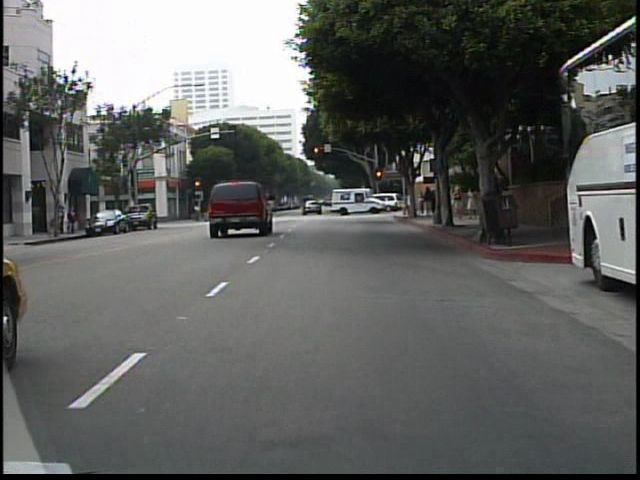person: (466, 181, 479, 222), (453, 183, 466, 221)
